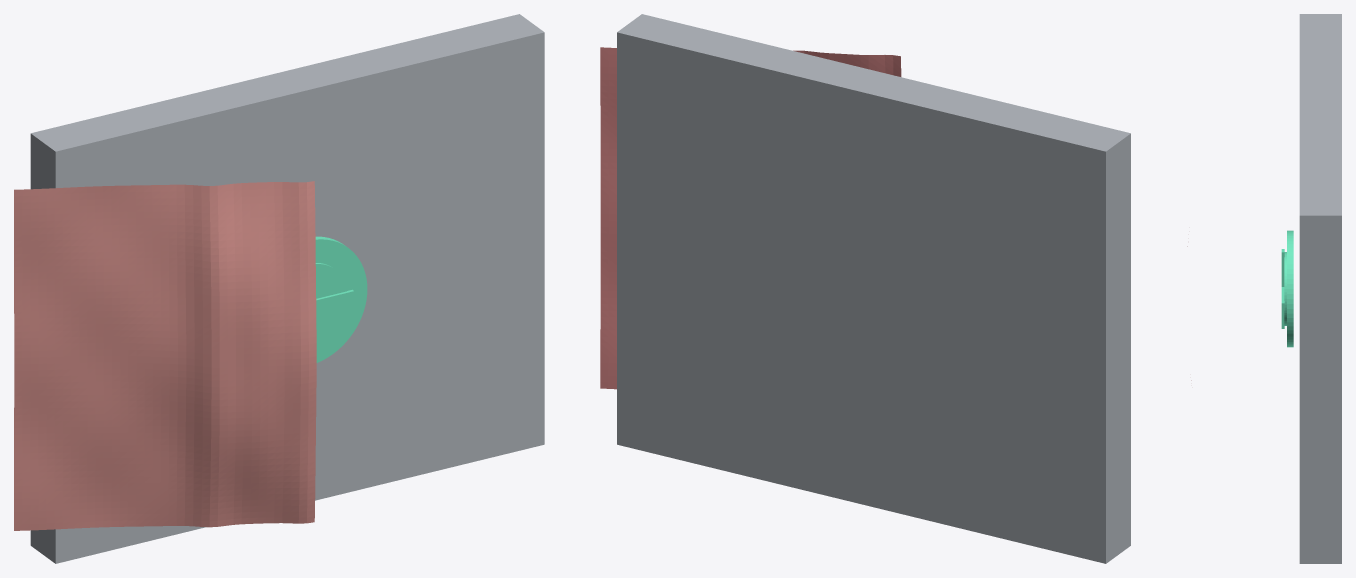
File: dranmar_exposure_tissue_exposed.glb
3 views of the same model, side by side, from view 1: azimuth 30°, elevation 25°; view 2: azimuth 150°, elevation 25°; view 3: azimuth 270°, elevation 25° (orthographic). The views are drawn at different scales.
Parts seen in each view (by area): view 1: tissue_base, left_flap, roi; view 2: tissue_base, right_flap; view 3: tissue_base, roi.
Part boxes in pixels (left/top/right/bottom): tissue_base: left=30, top=14, right=544, bottom=563; left_flap: left=14, top=181, right=316, bottom=530; roi: left=315, top=236, right=367, bottom=362; tissue_base: left=617, top=14, right=1130, bottom=563; right_flap: left=600, top=47, right=901, bottom=389; tissue_base: left=1299, top=14, right=1341, bottom=563; roi: left=1281, top=230, right=1293, bottom=347.
Bounding box in the file's own units: 0.2053 × 0.145 × 0.0585.
